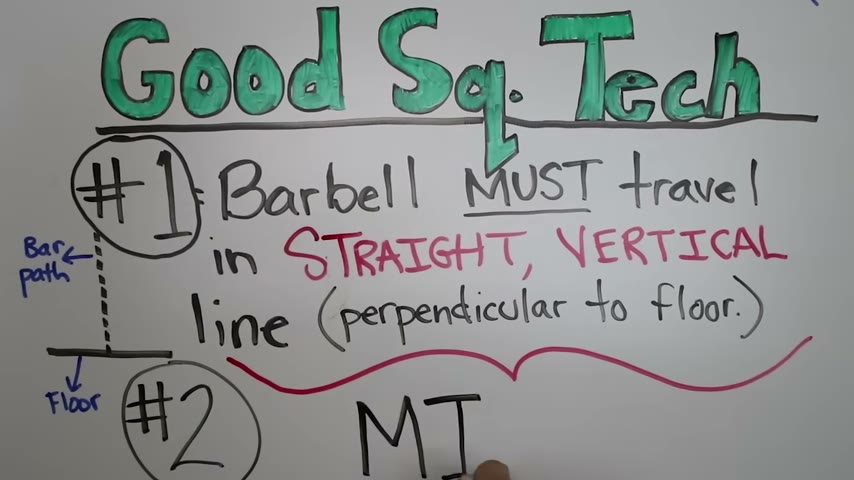barbell_plate_side: (63, 131, 134, 269), (116, 358, 187, 480)
